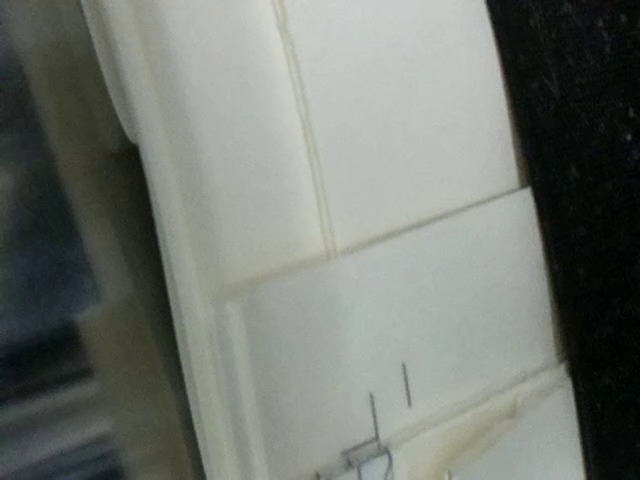misaligned: (275, 395, 402, 480)
